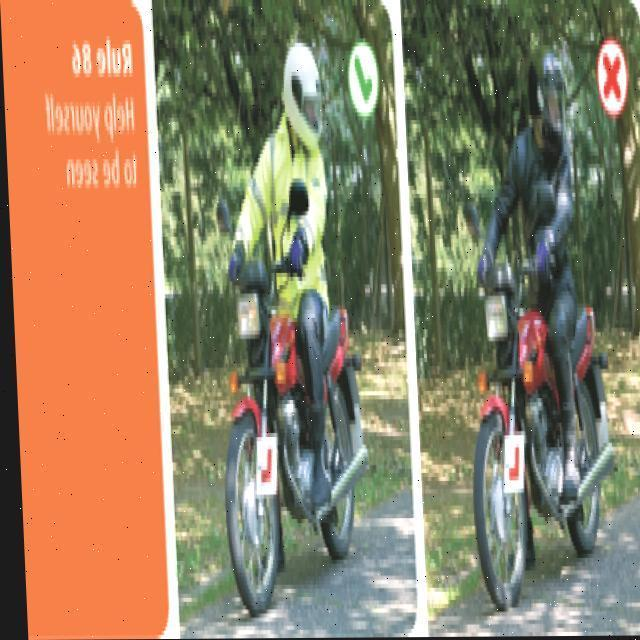Helmet: (523, 38, 570, 157), (278, 31, 326, 142)
